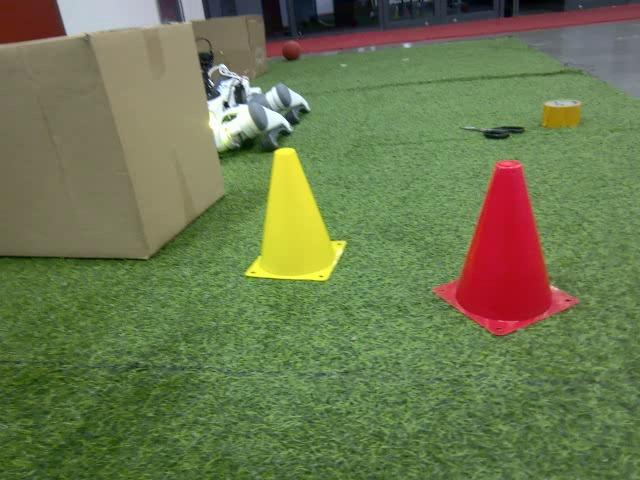red_ball: (282, 40, 302, 63)
red_barrel: (429, 158, 580, 338)
yellow_barrel: (240, 145, 350, 283)
